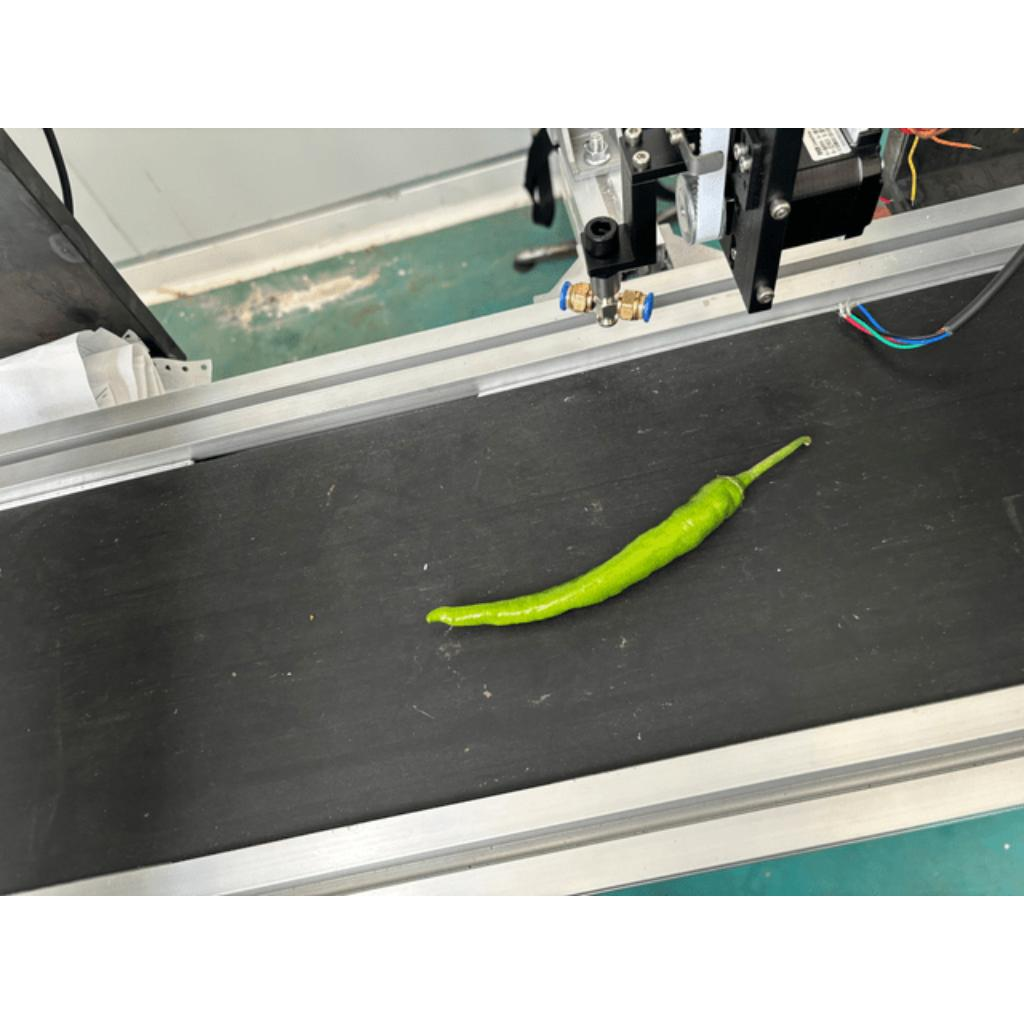chili: (423, 472, 752, 628)
